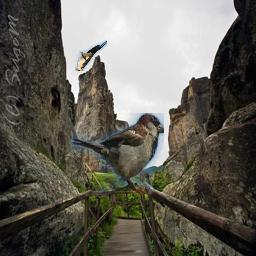Sparrow: (72, 114, 165, 195)
Swallow: (75, 41, 107, 72)
